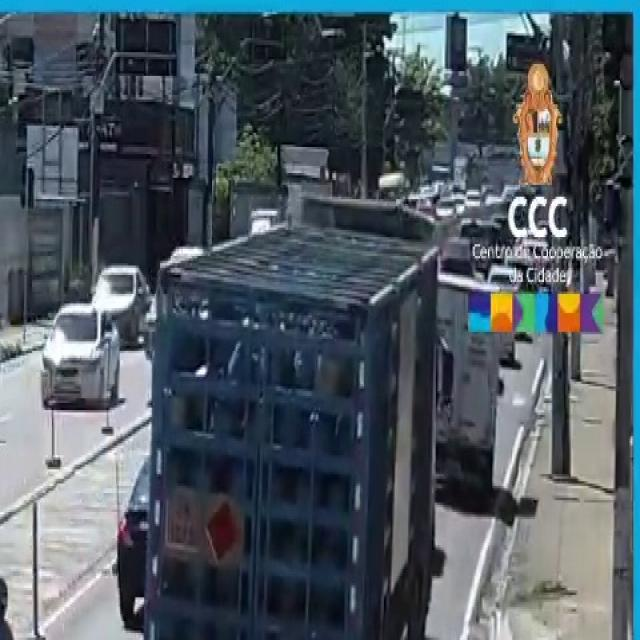biker: (0, 566, 29, 640)
car: (39, 292, 123, 420), (96, 254, 151, 347)
truck: (155, 223, 441, 640), (440, 271, 502, 498)
